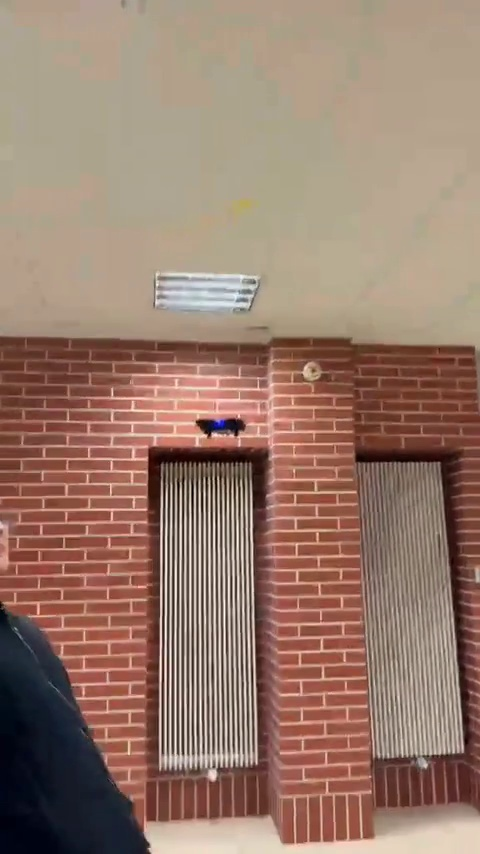drone: (198, 417, 248, 439)
